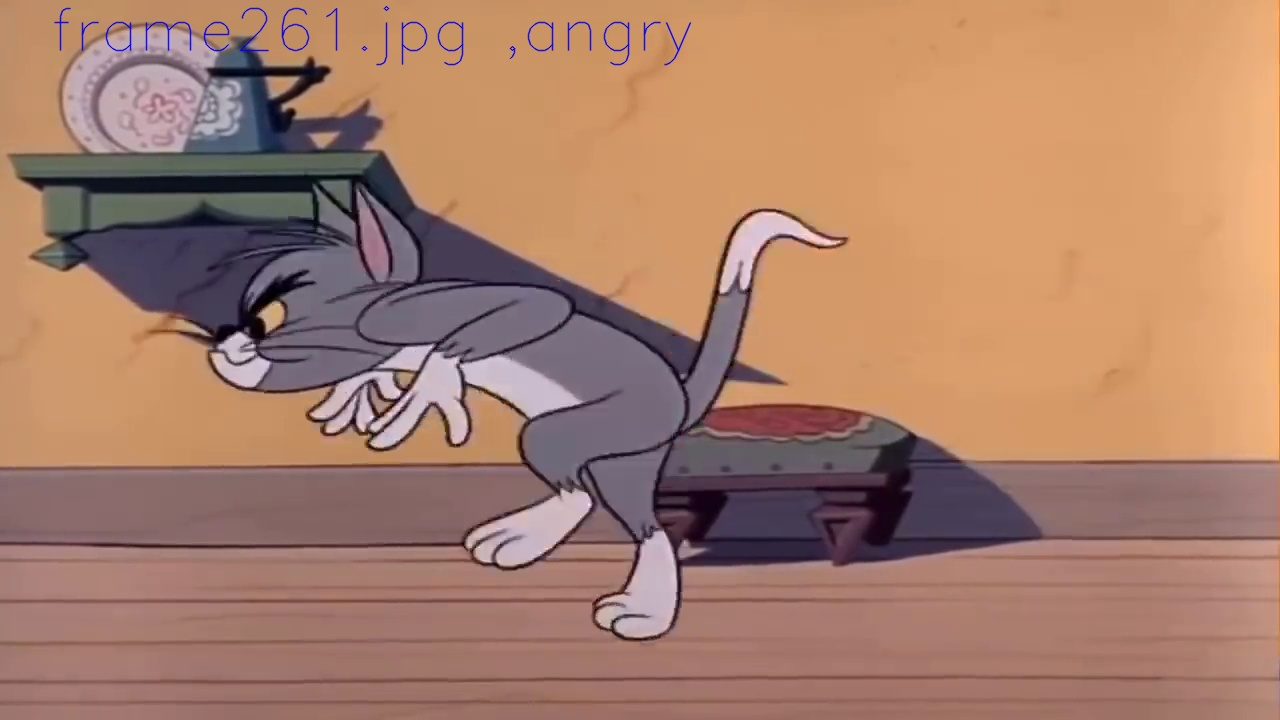angry: (209, 266, 313, 387)
